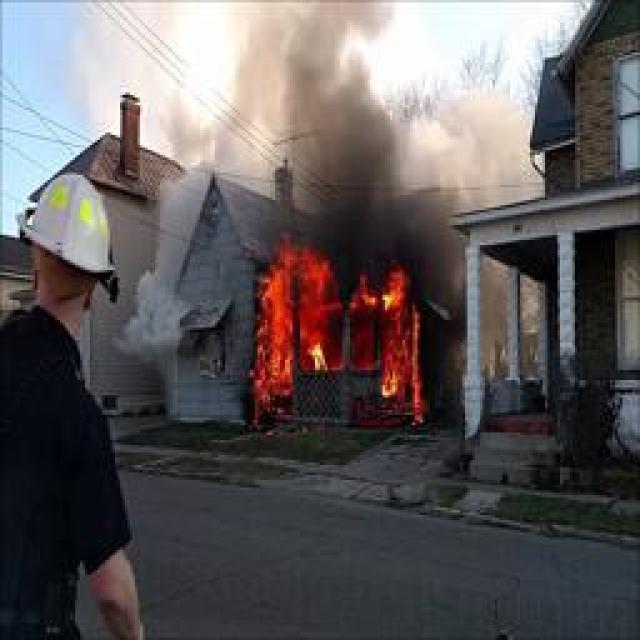Fire: (250, 243, 342, 422), (380, 268, 426, 424), (348, 280, 384, 373)
Smoke: (198, 4, 472, 236)
